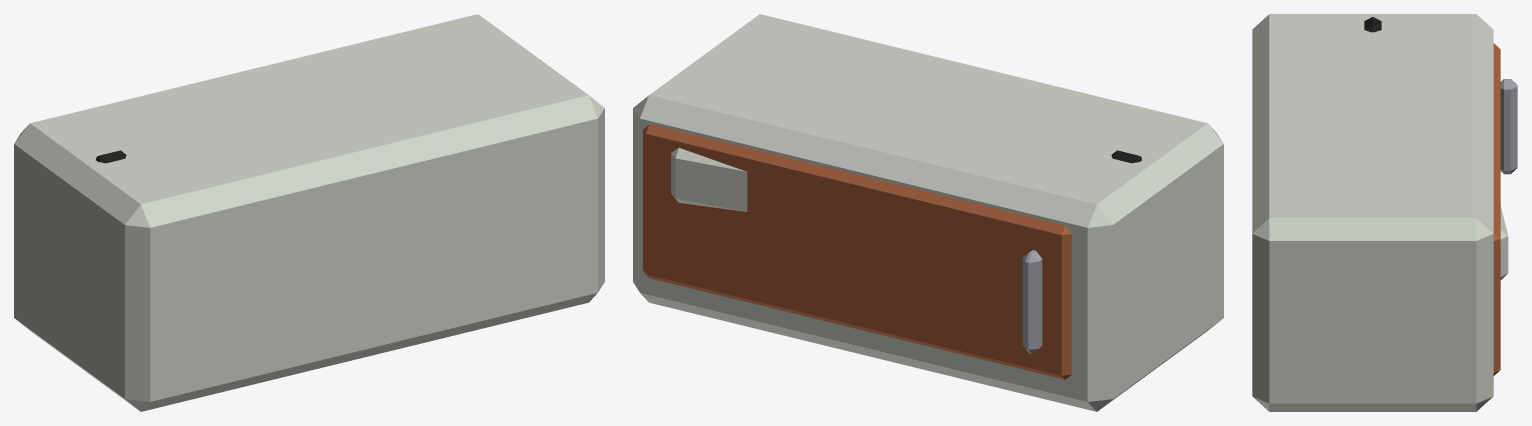
Rendered from park_fridge.glb.
The picture shows the model from 3 angles, left to right: view 1: azimuth 30°, elevation 25°; view 2: azimuth 150°, elevation 25°; view 3: azimuth 270°, elevation 25°; orthographic projection. The views are drawn at different scales.
Visible parts, largest first — view 1: park_fridge; view 2: park_fridge; view 3: park_fridge.
Boxes of the visible parts, box(x1,y1,x2,y2) form: park_fridge: box(14, 14, 604, 411); park_fridge: box(633, 14, 1223, 411); park_fridge: box(1252, 14, 1517, 411).
Bounding box in the file's own units: 1.5 × 0.6346 × 0.77.
